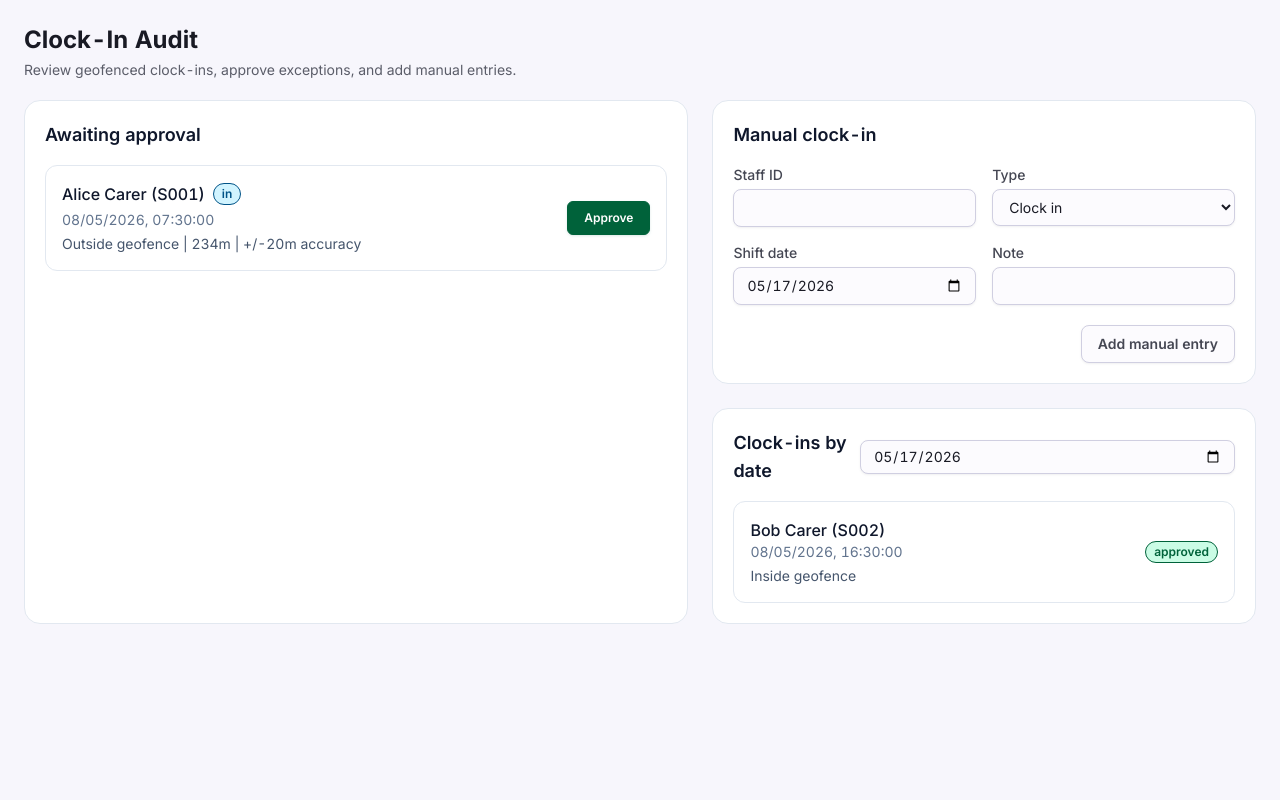
Test: ClockInAudit › shows manual create failures beside the manual form
Expected: the heading "Manual clock-in" is shown, [733, 124, 876, 145]
Type "S999" into the field labelled "Staff ID".
click(855, 208); type("S999")  # box [733, 189, 976, 227]
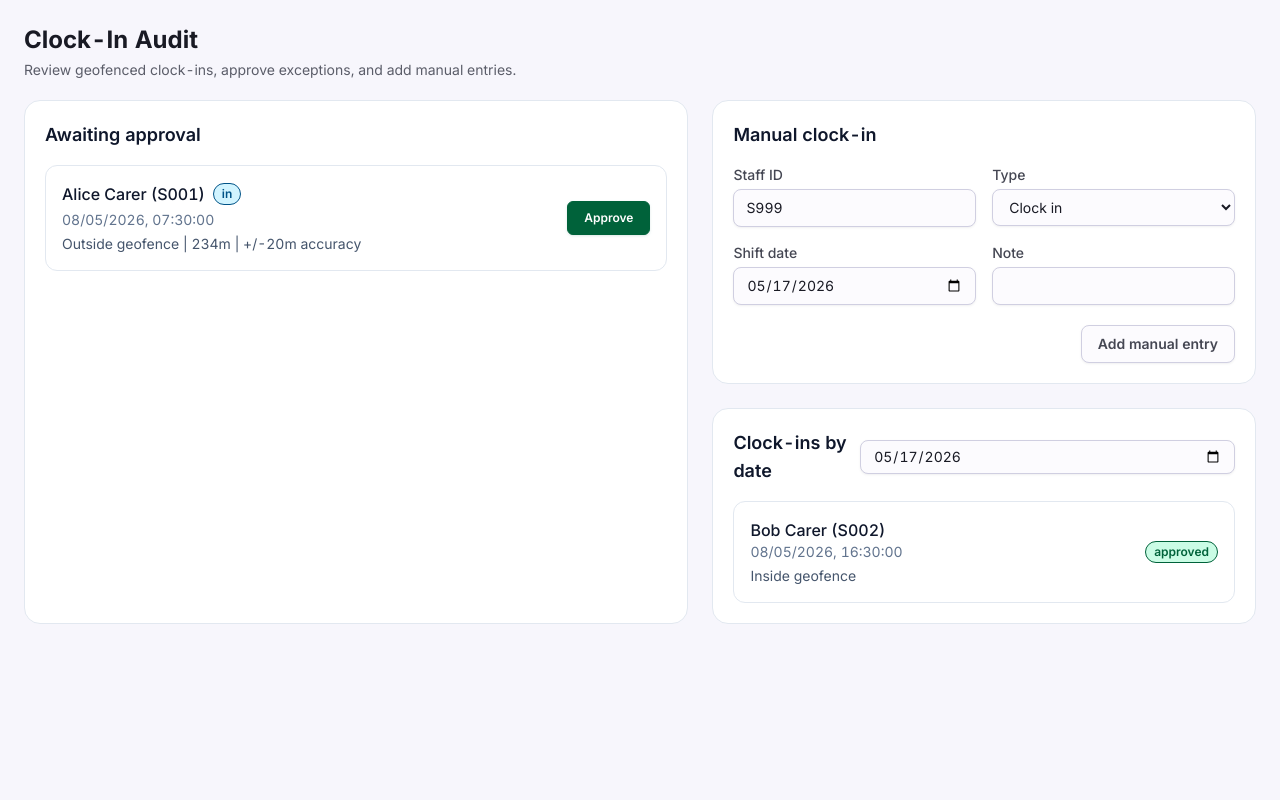
Click the button "Add manual entry".
click(1158, 344)  # box [1081, 325, 1235, 363]
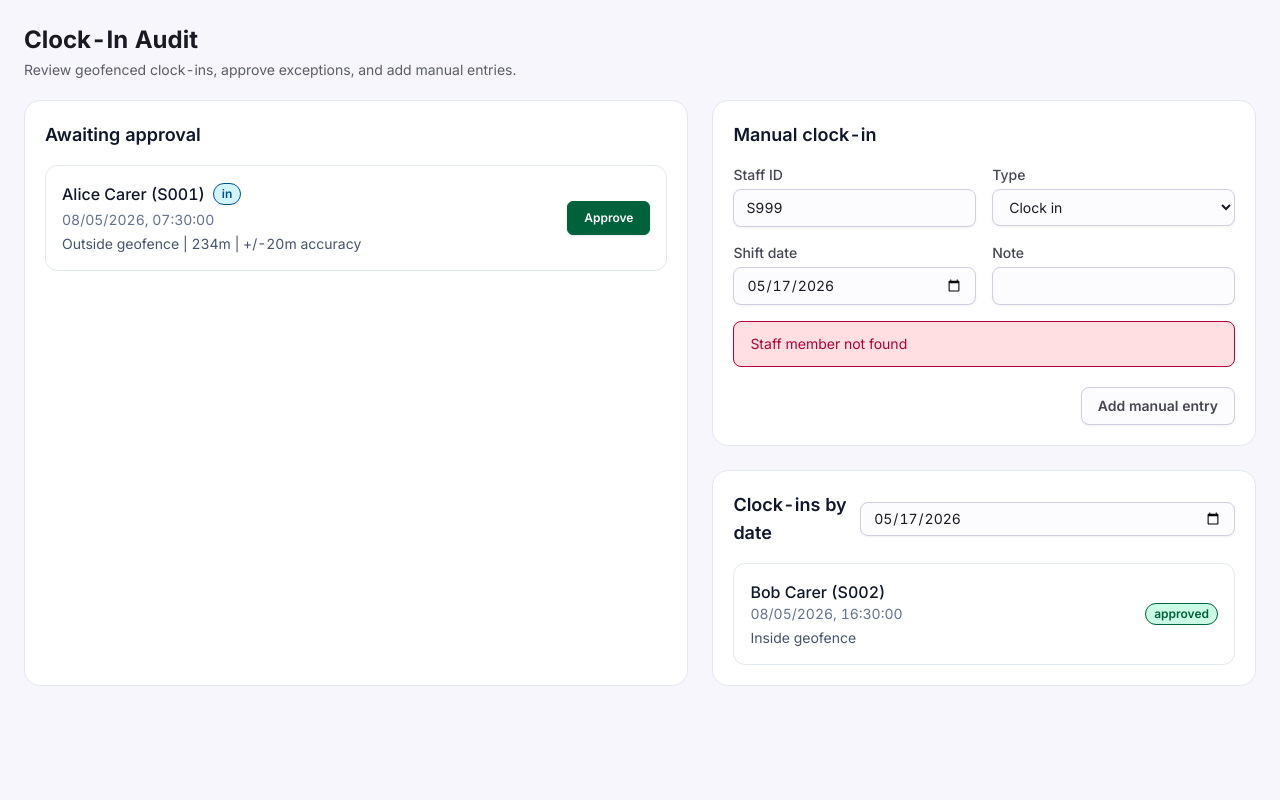
Expected: the text "Staff member not found" is shown, [750, 334, 907, 354]
